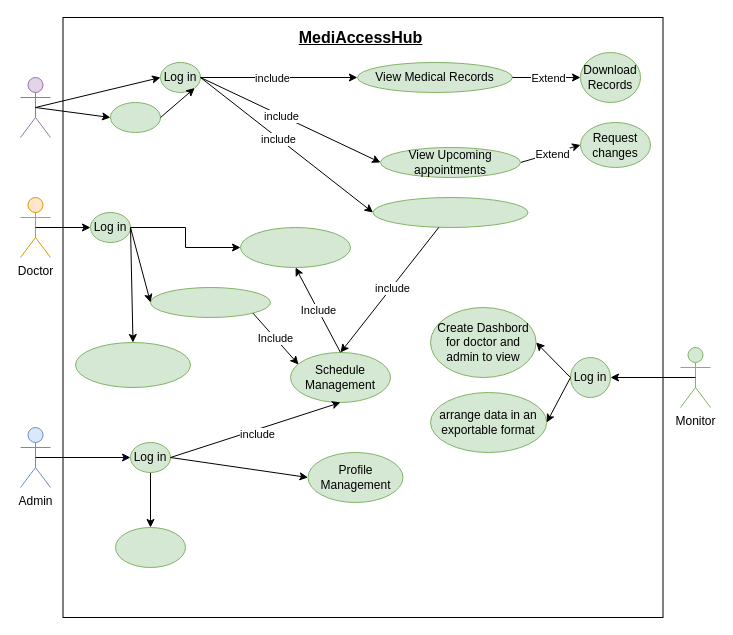
The diagram is 733 pixels wide and 635 high, and some of its shapes have lost their labels. The shapes that lost their labels are listed below. From the top down, each one's centre as x and y in pixels, then its label:
At (x=35, y=107): "Patient".
At (x=135, y=117): "Register".
At (x=450, y=212): "Request appointment".
At (x=295, y=247): "View scheduled appointments".
At (x=210, y=302): "Update availability".
At (x=132, y=365): "View & manage records".
At (x=150, y=547): "Admin View records".
